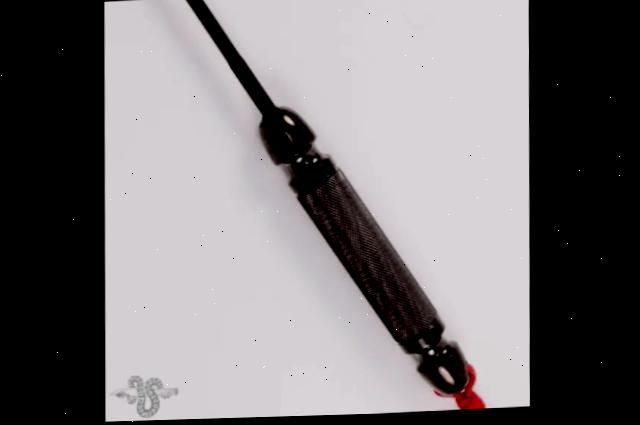ice pick: (104, 0, 474, 408)
